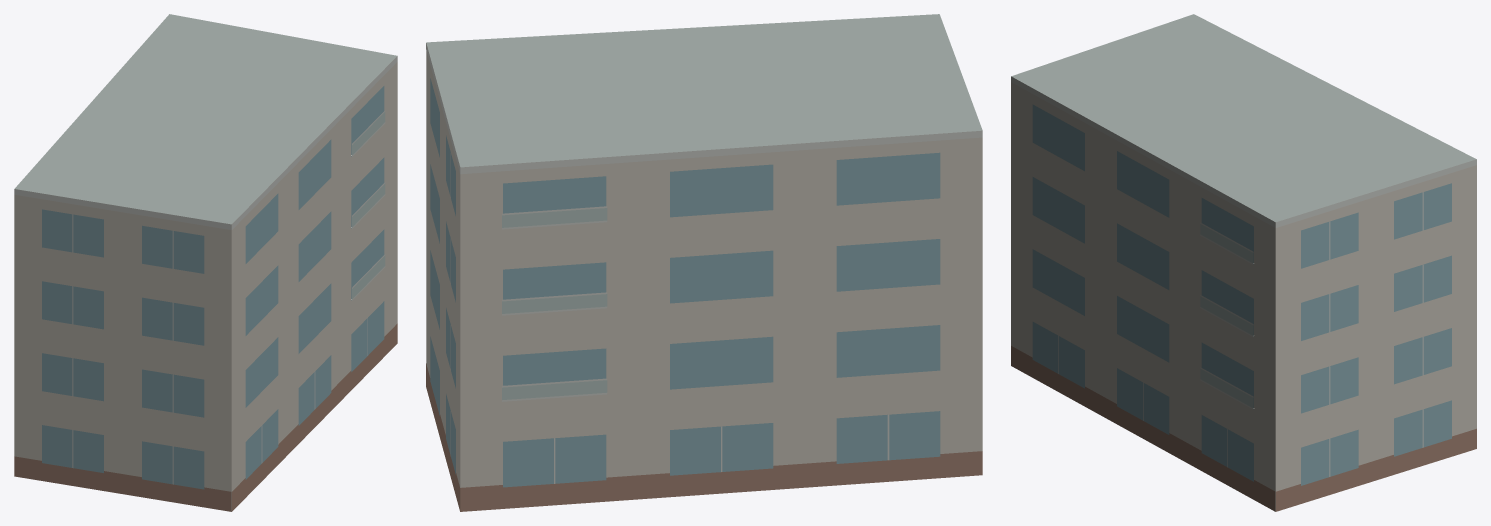
File: survey-upis-32932997.glb
The picture shows the model from 3 angles, left to right: view 1: azimuth 30°, elevation 25°; view 2: azimuth 150°, elevation 25°; view 3: azimuth 270°, elevation 25°; orthographic projection. The views are drawn at different scales.
Visible parts, largest first — view 1: survey-upis-32932997.tmp; view 2: survey-upis-32932997.tmp; view 3: survey-upis-32932997.tmp.
Boxes of the visible parts, x1,y1,x2,y2 form: survey-upis-32932997.tmp: (14,14,397,511); survey-upis-32932997.tmp: (426,14,982,511); survey-upis-32932997.tmp: (1011,14,1476,511).
Size of the model in its own units: 18.84 by 12.2 by 17.79.
